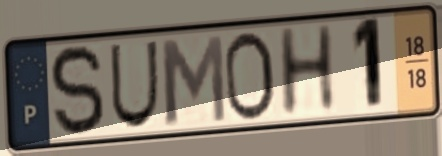1: (348, 14, 386, 115)
H: (274, 21, 340, 121)
M: (156, 31, 229, 128)
O: (222, 29, 279, 125)
S: (47, 41, 108, 141)
U: (107, 37, 161, 131)
